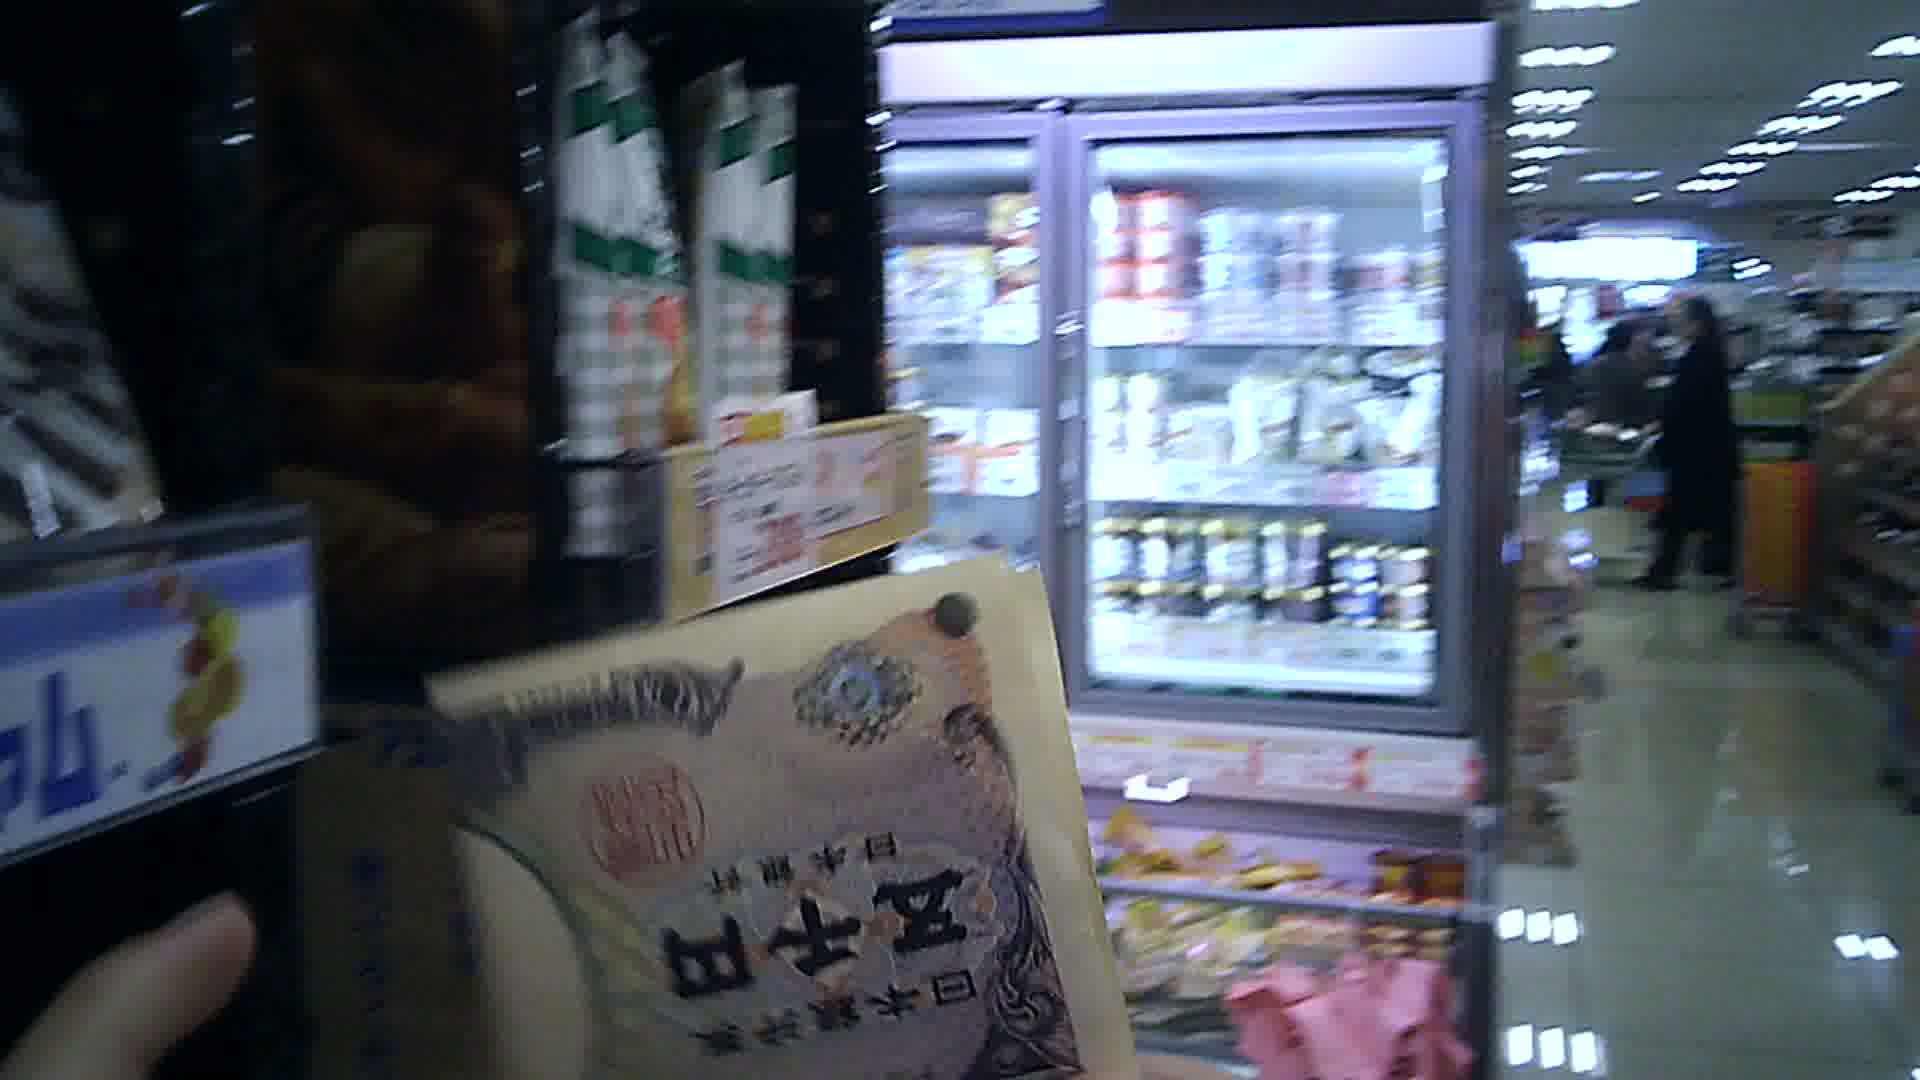5,000 Yen: (396, 559, 1134, 1069)
